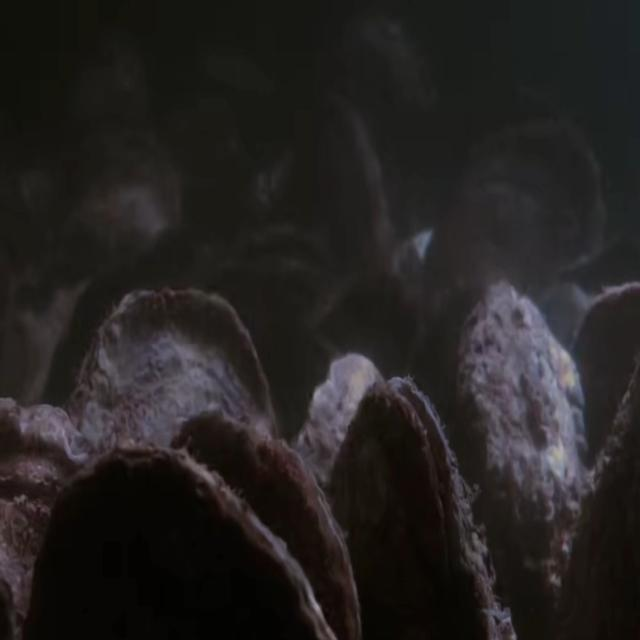Oyster-Closed: (24, 439, 336, 640), (170, 411, 360, 640), (0, 399, 99, 640)
Oyster-Indeterminate: (67, 286, 278, 640), (453, 284, 590, 640), (420, 115, 605, 340), (293, 353, 387, 640), (291, 91, 395, 294), (53, 134, 184, 277), (565, 283, 640, 502)
Oyster-Open: (324, 376, 514, 640), (220, 219, 338, 330)
